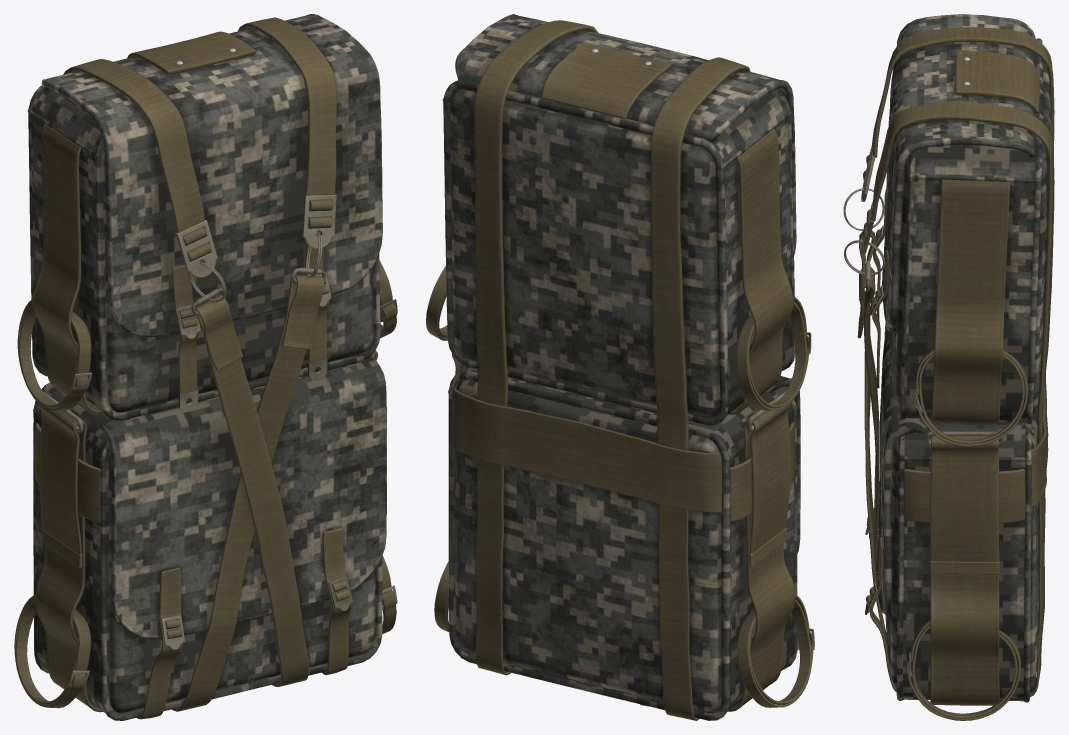
The model's file is bag_stacked.glb.
3 views of the same model, side by side, from view 1: azimuth 30°, elevation 25°; view 2: azimuth 150°, elevation 25°; view 3: azimuth 270°, elevation 25° (orthographic). The views are drawn at different scales.
Parts seen in each view (by area): view 1: cover_001_mesh.003, strap_001_mesh.006, main_001_mesh.002, buckle_001_mesh.006, ring_001_mesh, plate_001_mesh.002; view 2: main_001_mesh.002, strap_001_mesh.006, cover_001_mesh.003; view 3: strap_001_mesh.006, main_001_mesh.002, cover_001_mesh.003, buckle_001_mesh.006, ring_001_mesh.
Part boxes in pixels (box(x1,y1,x2,y2)): cover_001_mesh.003: box(41, 14, 386, 639); strap_001_mesh.006: box(14, 17, 396, 719); main_001_mesh.002: box(27, 85, 382, 720); buckle_001_mesh.006: box(66, 194, 397, 688); ring_001_mesh: box(43, 233, 375, 432); plate_001_mesh.002: box(178, 359, 327, 412); main_001_mesh.002: box(442, 80, 797, 720); strap_001_mesh.006: box(426, 20, 813, 720); cover_001_mesh.003: box(455, 14, 800, 553); strap_001_mesh.006: box(857, 27, 1054, 720); main_001_mesh.002: box(885, 38, 1052, 702); cover_001_mesh.003: box(876, 14, 1035, 614); buckle_001_mesh.006: box(861, 148, 923, 678); ring_001_mesh: box(843, 188, 1003, 445).
Size of the model in its own units: 0.8281 by 1.42 by 0.4643.
7 materials, 7 textured.
